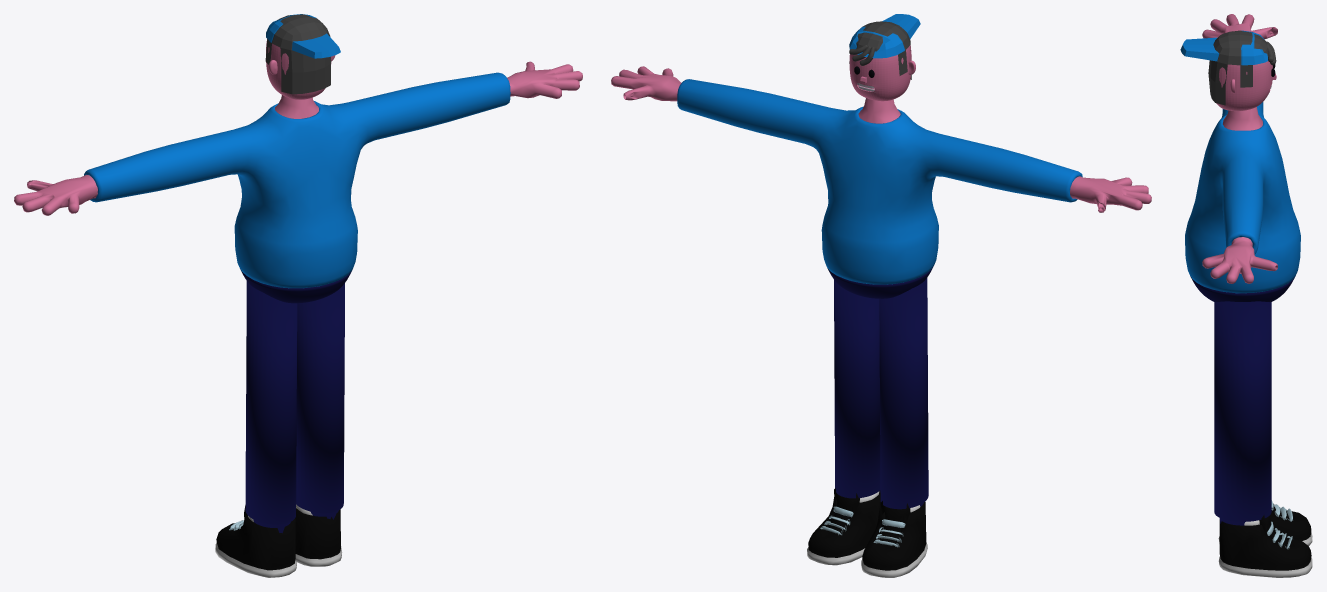
Rendered from openGL_Room_v2.obj.
3 renders of one model, left to right at view 1: azimuth 30°, elevation 25°; view 2: azimuth 150°, elevation 25°; view 3: azimuth 270°, elevation 25°, orthographic. The views are drawn at different scales.
Parts seen in each view (by area): view 1: Tshirt.004, Leg.004, Shoe.004, Body.004, Hair.004, trousers.004, Head.004; view 2: Tshirt.004, Leg.004, Shoe.004, Body.004, Hair.004, Head.004, trousers.004; view 3: Tshirt.004, Leg.004, Shoe.004, Hair.004, Body.004, Head.004, trousers.004.
Boxes of the visible parts, x1=… form: Tshirt.004: x1=84, y1=72, x2=510, y2=288; Leg.004: x1=245, y1=281, x2=344, y2=533; Shoe.004: x1=215, y1=504, x2=342, y2=577; Body.004: x1=14, y1=61, x2=582, y2=215; Hair.004: x1=265, y1=14, x2=340, y2=94; trousers.004: x1=240, y1=269, x2=351, y2=303; Head.004: x1=266, y1=39, x2=331, y2=99; Tshirt.004: x1=677, y1=79, x2=1082, y2=284; Leg.004: x1=834, y1=278, x2=928, y2=509; Shoe.004: x1=807, y1=488, x2=927, y2=577; Body.004: x1=611, y1=66, x2=1151, y2=212; Hair.004: x1=849, y1=14, x2=920, y2=92; Head.004: x1=849, y1=45, x2=911, y2=101; trousers.004: x1=827, y1=266, x2=933, y2=298; Tshirt.004: x1=1185, y1=102, x2=1300, y2=293; Leg.004: x1=1214, y1=301, x2=1271, y2=525; Shoe.004: x1=1218, y1=500, x2=1312, y2=577; Hair.004: x1=1180, y1=30, x2=1276, y2=105; Body.004: x1=1202, y1=14, x2=1277, y2=283; Head.004: x1=1216, y1=61, x2=1272, y2=111; trousers.004: x1=1190, y1=276, x2=1295, y2=302.
Bounding box in the file's own units: 1.53 × 1.43 × 0.3278.
